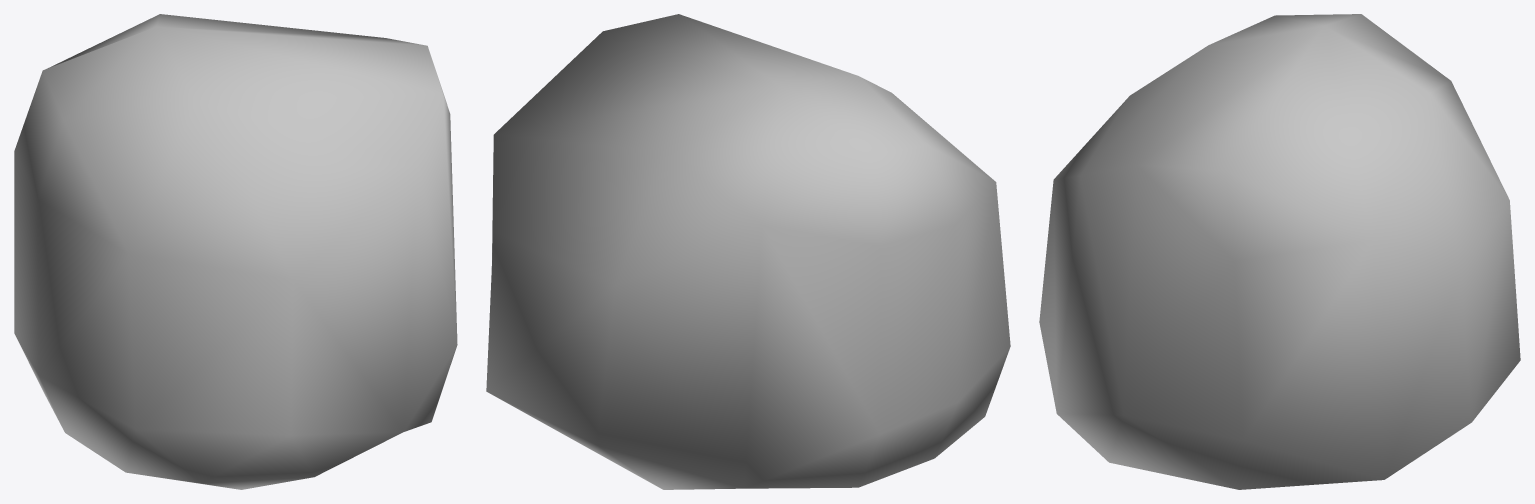
The model's file is Stone3.fbx.
3 renders of one model, left to right at view 1: azimuth 30°, elevation 25°; view 2: azimuth 150°, elevation 25°; view 3: azimuth 270°, elevation 25°, orthographic. The views are drawn at different scales.
Parts seen in each view (by area): view 1: Piedra_3; view 2: Piedra_3; view 3: Piedra_3.
Boxes of the visible parts, box(x1,y1,x2,y2) form: Piedra_3: box(14, 14, 457, 489); Piedra_3: box(486, 14, 1010, 489); Piedra_3: box(1039, 14, 1520, 489).
Size of the model in its own units: 4.04 by 3.68 by 4.23.
